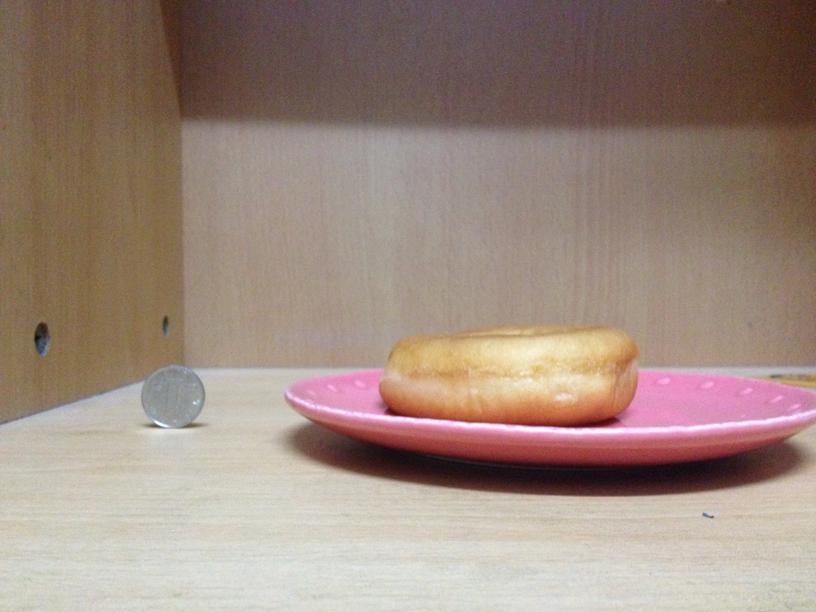coin: (138, 364, 205, 428)
doughnut: (380, 323, 637, 425)
